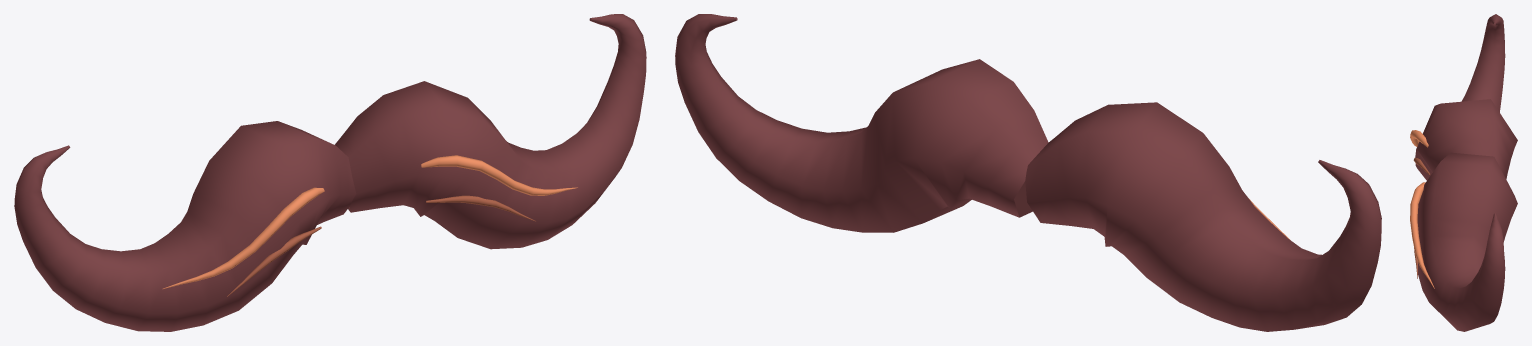
File: cocoa_curl.glb
3 renders of one model, left to right at view 1: azimuth 30°, elevation 25°; view 2: azimuth 150°, elevation 25°; view 3: azimuth 270°, elevation 25°, orthographic. The views are drawn at different scales.
Visible parts, largest first — view 1: Cocoa Curl Mustache; view 2: Cocoa Curl Mustache; view 3: Cocoa Curl Mustache.
Boxes of the visible parts, box(x1,y1,x2,y2) form: Cocoa Curl Mustache: box(14, 14, 646, 331); Cocoa Curl Mustache: box(675, 14, 1381, 331); Cocoa Curl Mustache: box(1410, 14, 1517, 331).
Size of the model in its own units: 1 by 0.2763 by 0.1976.
